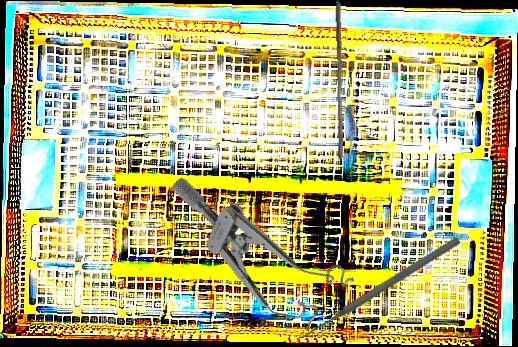Pusher: (297, 234, 462, 344), (329, 0, 349, 159)
Speculum: (139, 175, 365, 341)
